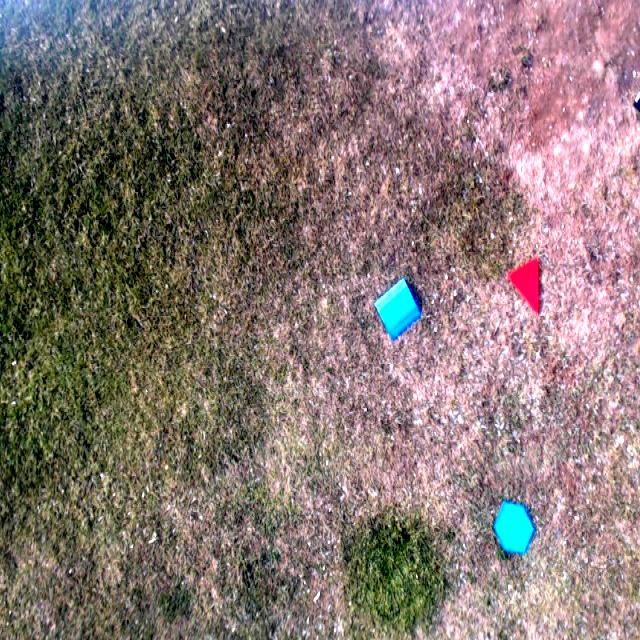blue_hexagon: (493, 499, 536, 557)
blue_square: (374, 277, 422, 342)
red_triangle: (504, 256, 540, 314)
